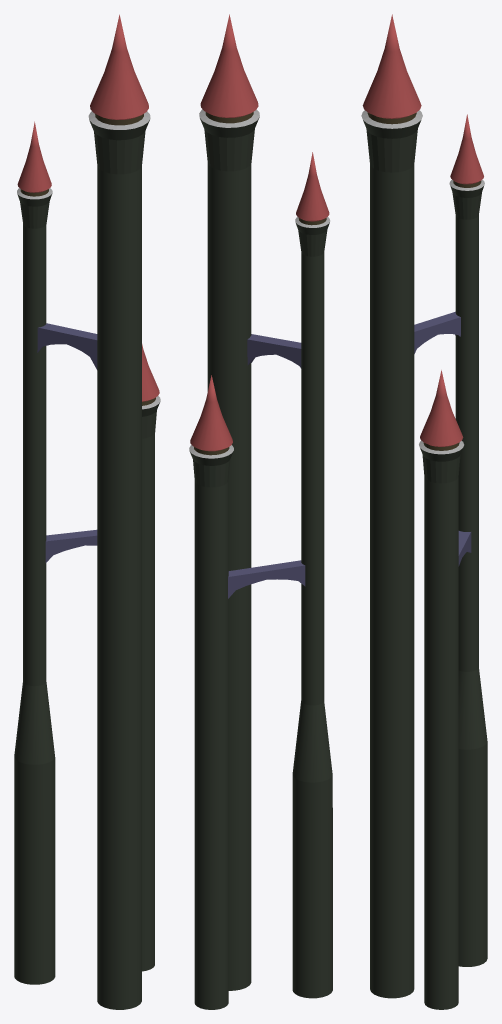
File: ForwardTower1.fbx
The picture shows the model from 3 angles, left to right: view 1: azimuth 30°, elevation 25°; view 2: azimuth 210°, elevation 25°; view 3: azimuth 270°, elevation 25°; orthographic projection.
Visible parts, largest first — view 1: ForwardTower1; view 2: ForwardTower1; view 3: ForwardTower1.
Boxes of the visible parts, x1,y1,x2,y2 form: ForwardTower1: (14,14,160,1009); ForwardTower1: (189,14,332,1009); ForwardTower1: (361,14,487,1009).
Size of the model in its own units: 11.01 by 81.17 by 9.53.
